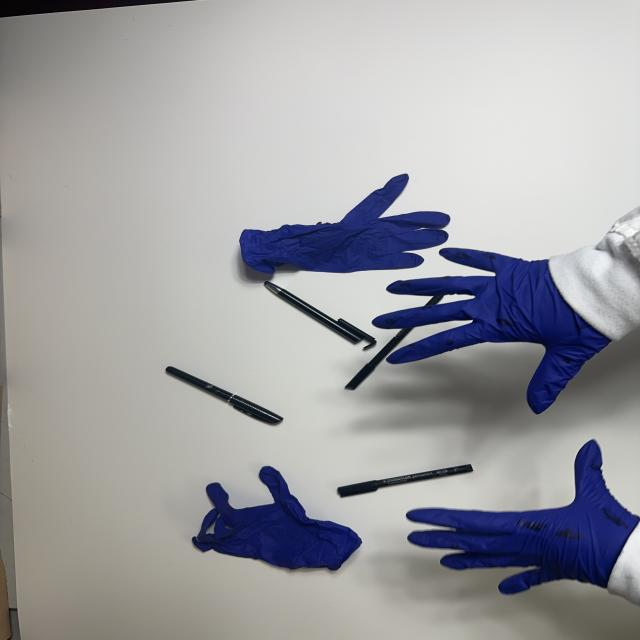gloves_contaminated: (374, 249, 610, 413), (407, 441, 640, 594)
